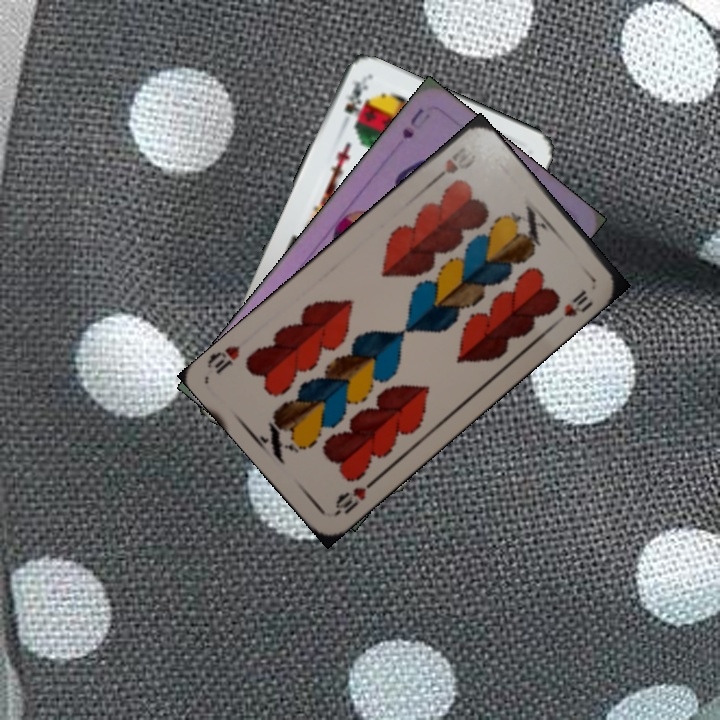H10: (330, 474, 380, 518), (427, 143, 472, 187)
SK: (340, 76, 371, 117)
SU: (397, 104, 433, 142)
